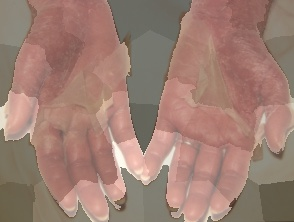SJS-TEN: (142, 0, 294, 222), (0, 0, 147, 221)
